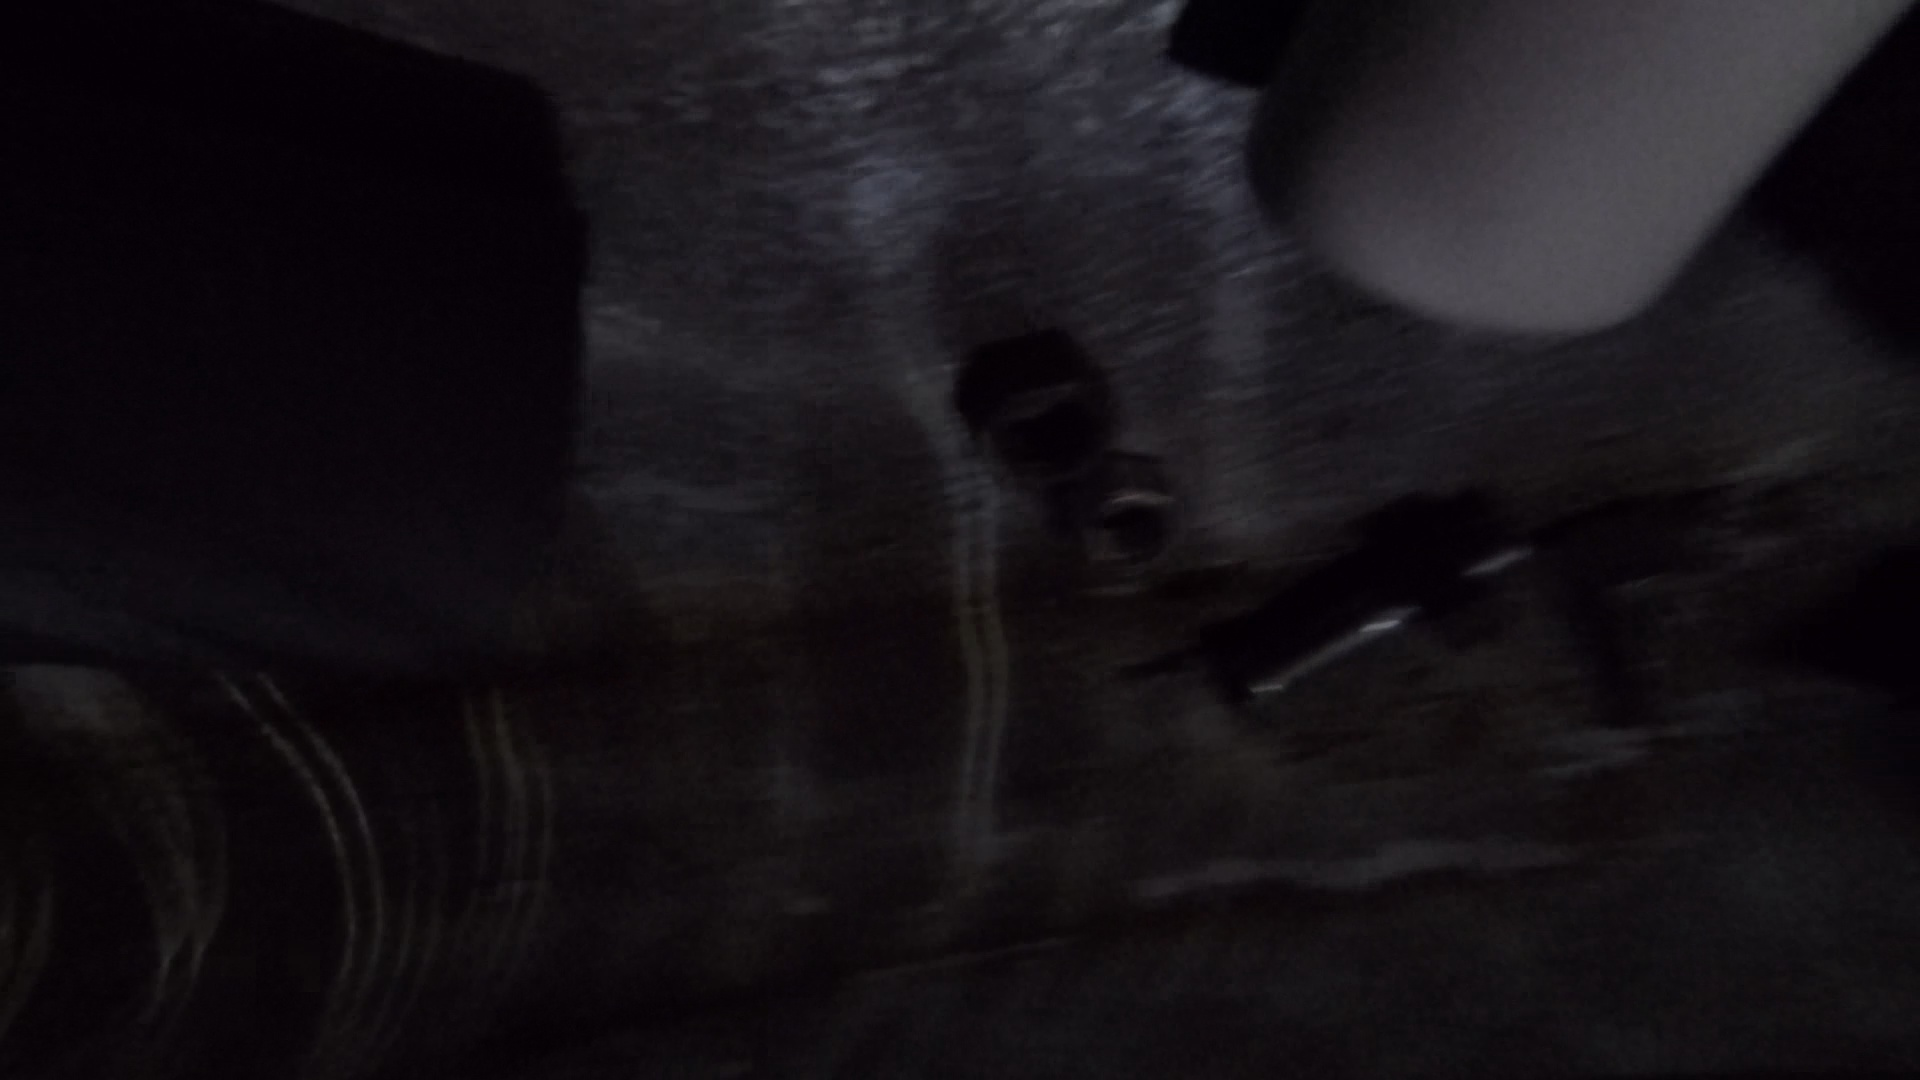bolt: (1216, 509, 1538, 727)
nut: (959, 326, 1112, 489), (1072, 451, 1192, 563), (1402, 514, 1489, 658)
pipe: (1, 1, 580, 675), (1255, 1, 1920, 339)
